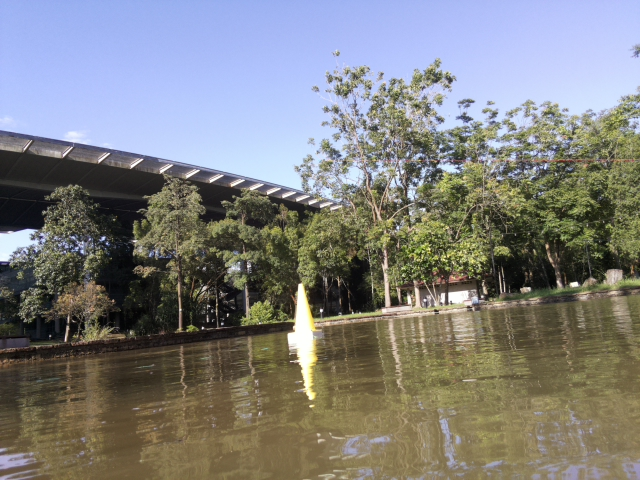checkpoint: (287, 280, 323, 345)
